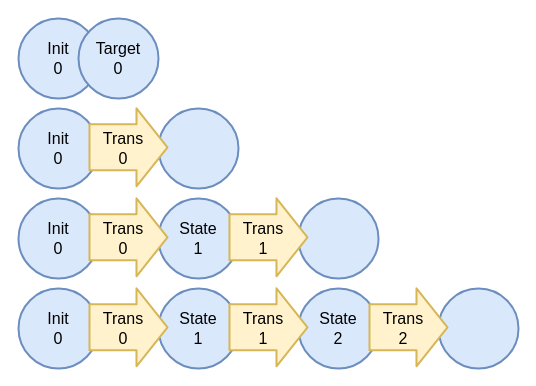
The diagram is 536 pixels wide and 386 high, and some of its shapes have lost their labels. Here are the shapes that lost their labels. From the top down, the centre of each, then its label:
the point at 198,148: Target 1
the point at 338,238: Target 2
the point at 478,328: Target 3
